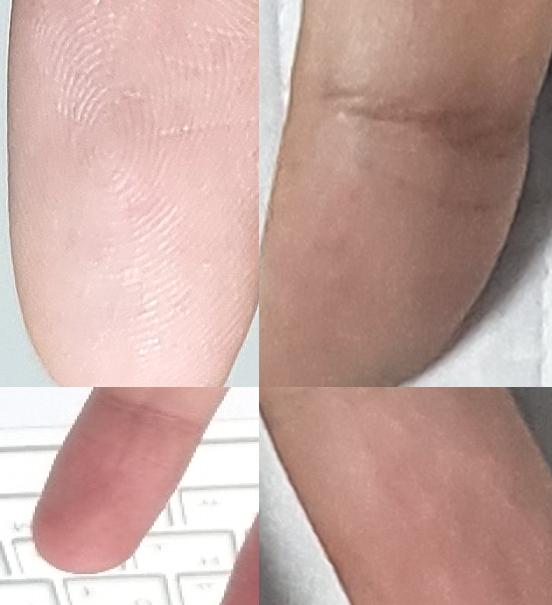Fingerprints: (259, 73, 529, 386), (267, 387, 552, 605), (30, 393, 204, 575)
